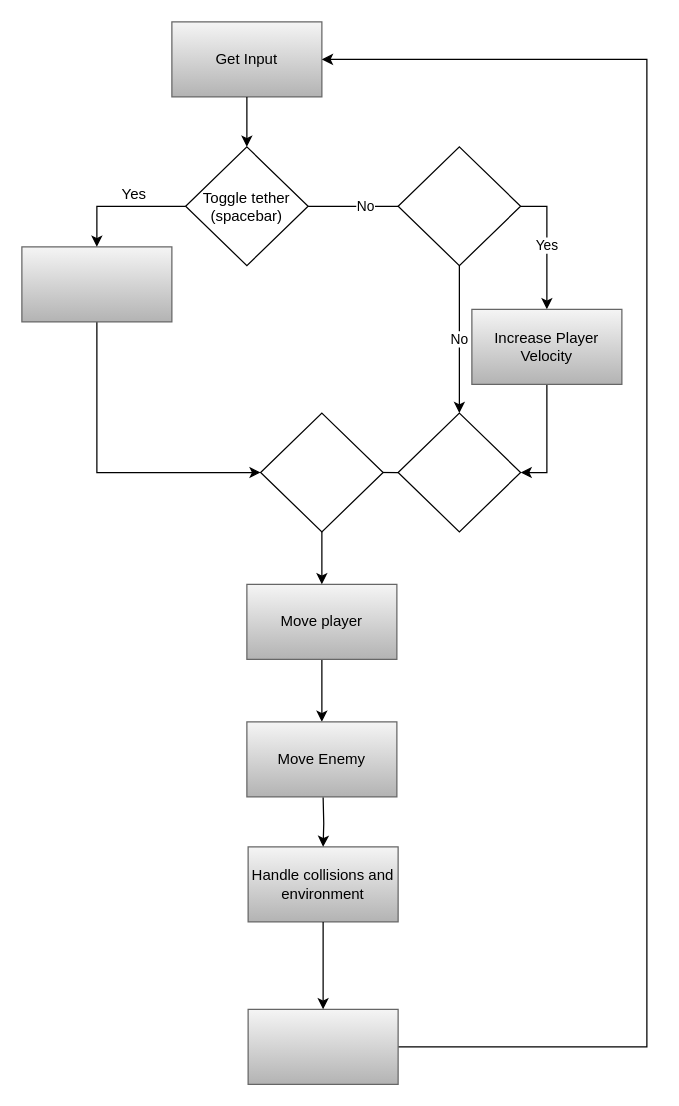
Image size: 679x1106. Some labels were removed from this diagram. Each missing label, with the box of its shape:
Burst Key Pressed (F): (397, 146, 521, 266)
Toggle player movement behavior: (21, 246, 172, 322)
Update view: (247, 1008, 398, 1084)
